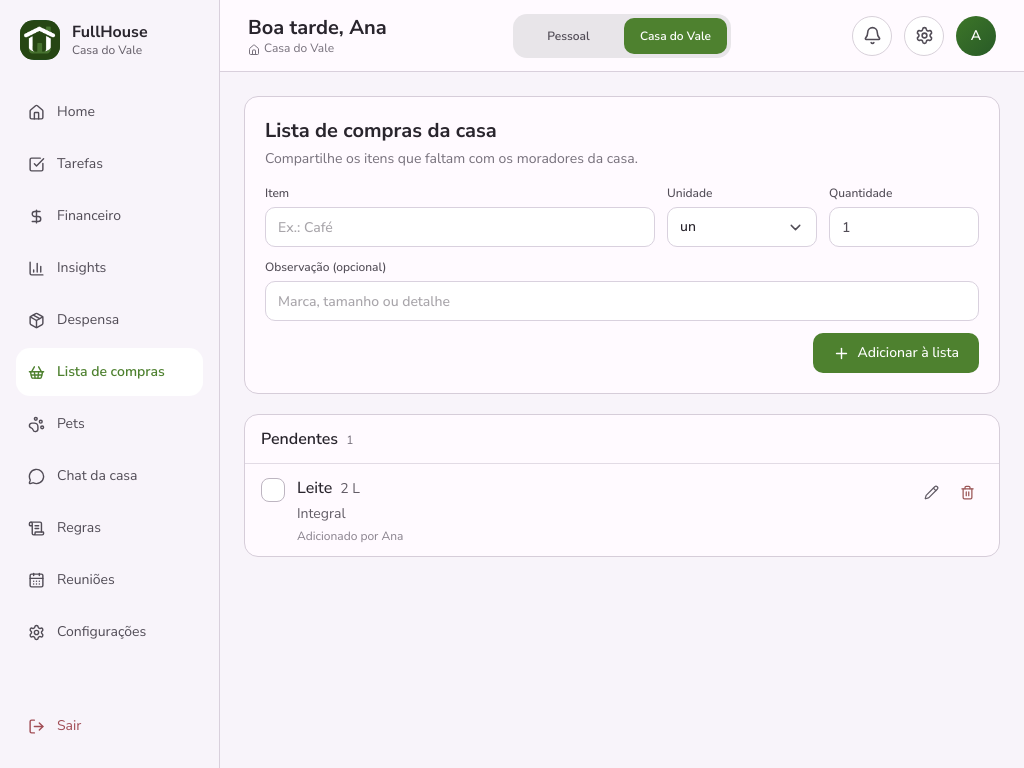
Test: ShoppingListPage › deletes an item only after confirming in the dialog
Click the button named "Excluir Leite".
click(967, 492)  # box 951,476 -> 983,508
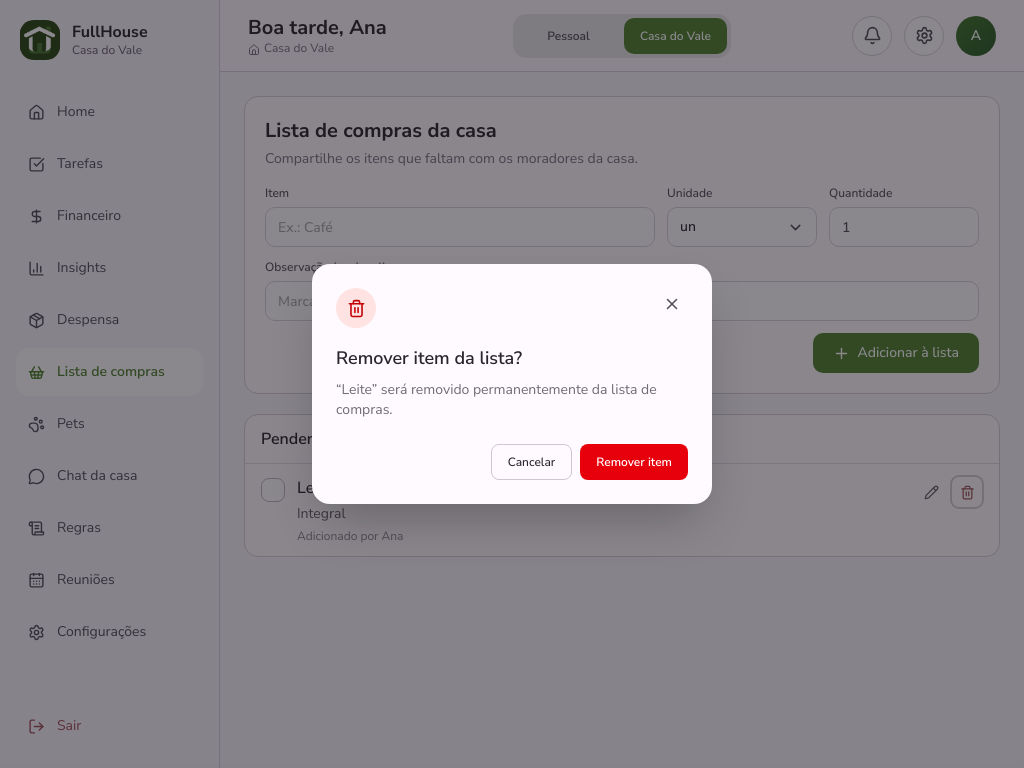
Click the button "Cancelar".
click(532, 462)  # box 491,444 -> 572,480
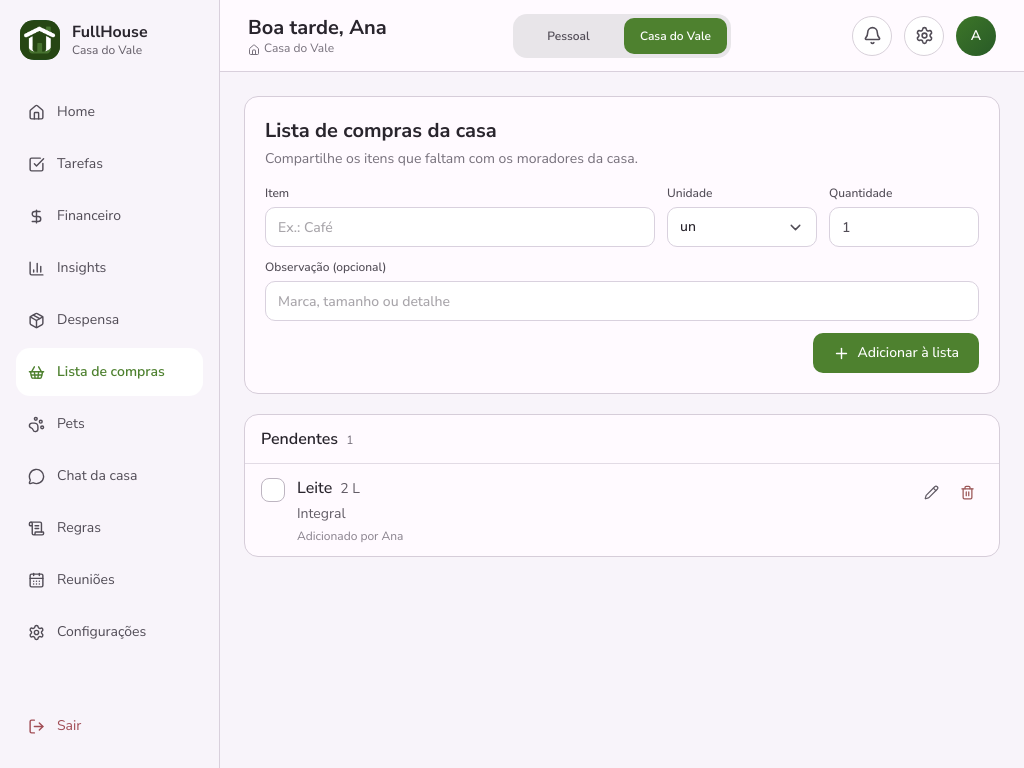
expect the text "Leite" is shown: met, box 297,476 -> 332,500
Click the button named "Excluir Leite".
click(967, 492)  # box 951,476 -> 983,508
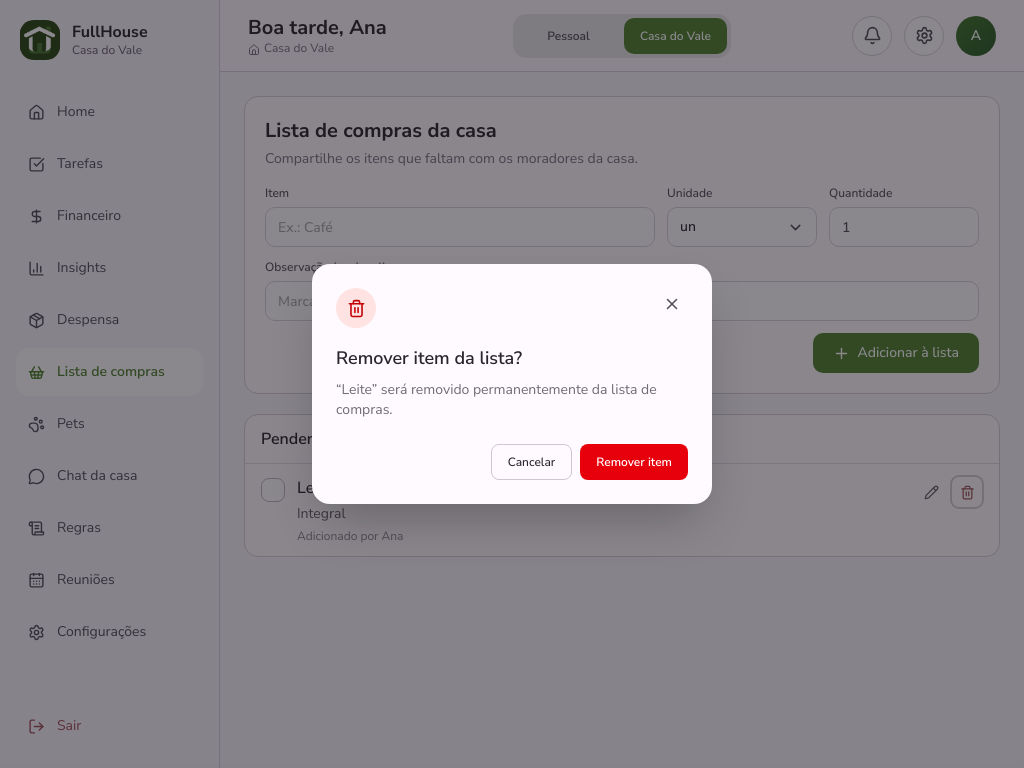
Click the button "Remover item".
click(634, 462)  # box 580,444 -> 688,480
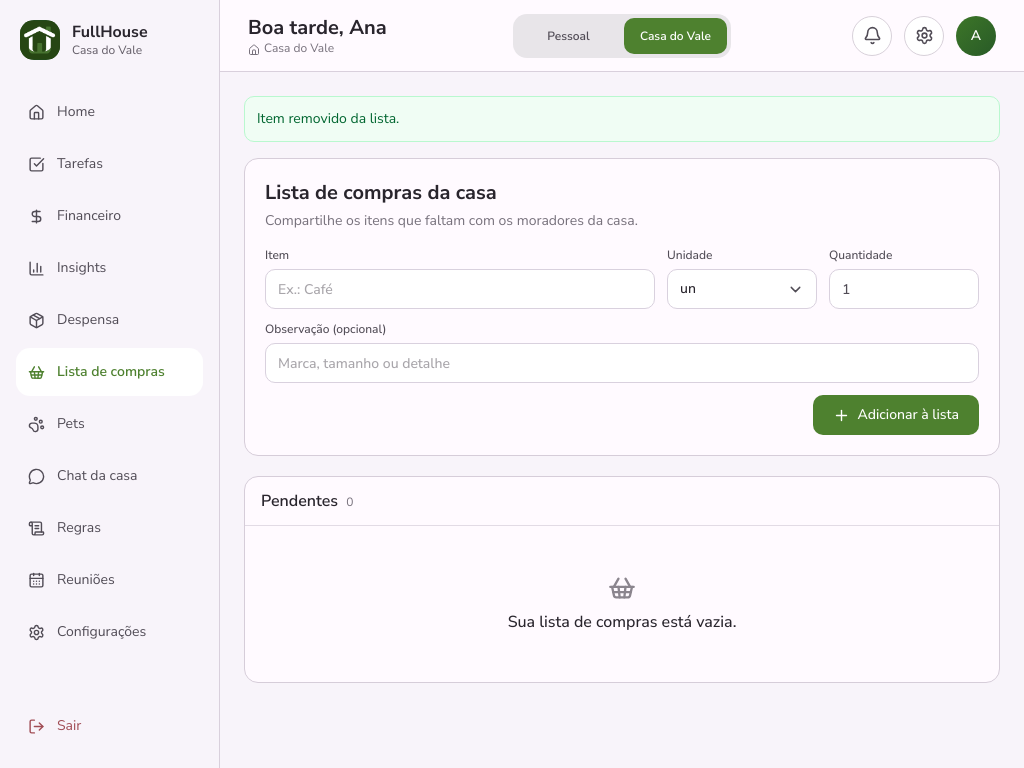
expect the message reads "Item removido da lista.": met, box 257,109 -> 399,128
expect the text "Leite" is gone: met
